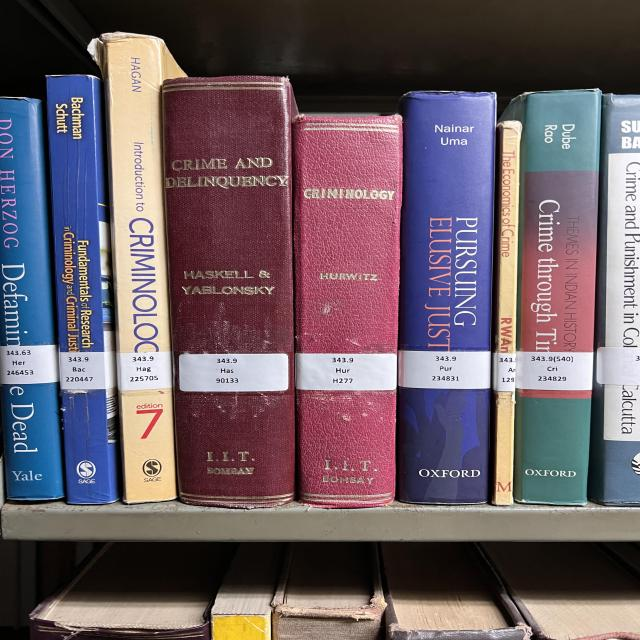Book: (163, 76, 297, 508), (88, 32, 185, 504), (293, 115, 402, 508), (502, 89, 602, 505), (397, 91, 497, 504), (47, 75, 120, 504), (0, 98, 65, 500), (588, 95, 640, 506), (492, 120, 522, 505), (475, 182, 478, 184)
Label: (178, 354, 288, 392), (295, 352, 397, 391), (398, 350, 492, 389), (515, 351, 593, 391), (58, 351, 117, 390), (0, 345, 58, 384), (117, 351, 172, 391), (597, 346, 640, 385), (493, 352, 517, 391)
